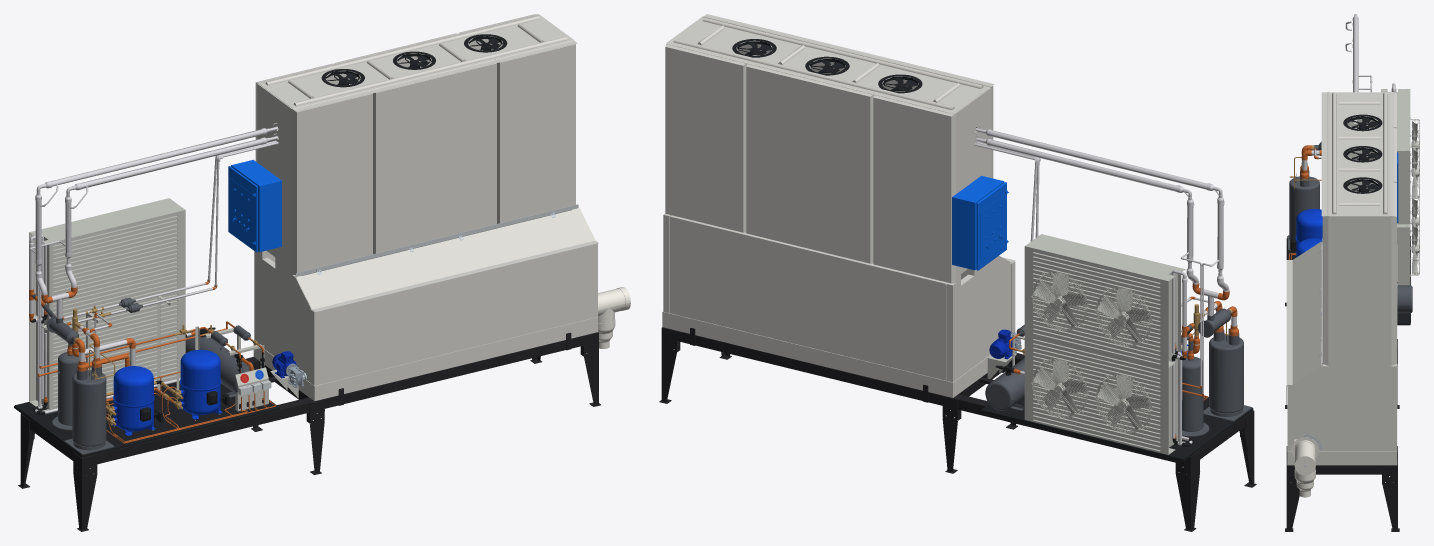
The picture shows the model from 3 angles, left to right: view 1: azimuth 30°, elevation 25°; view 2: azimuth 150°, elevation 25°; view 3: azimuth 270°, elevation 25°; orthographic projection. The views are drawn at different scales.
Bounding box in the file's own units: 5.69 × 3.39 × 1.31.
